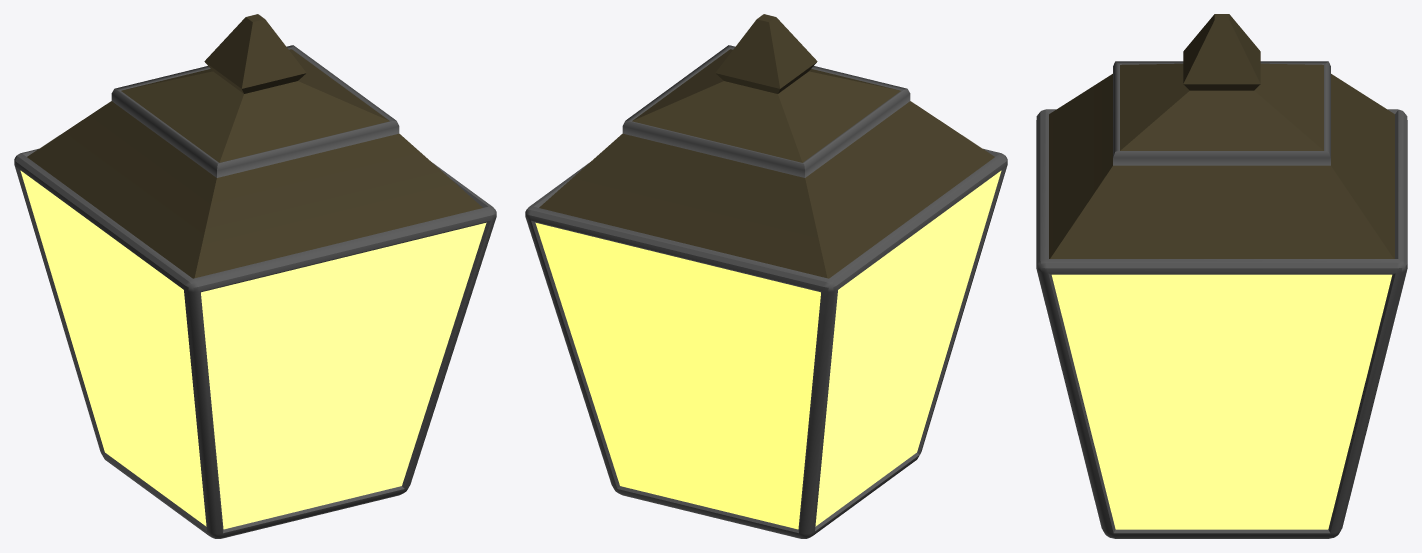
File: Lamp.fbx
3 renders of one model, left to right at view 1: azimuth 30°, elevation 25°; view 2: azimuth 150°, elevation 25°; view 3: azimuth 270°, elevation 25°, orthographic. The views are drawn at different scales.
Visible parts, largest first — view 1: pCube1; view 2: pCube1; view 3: pCube1.
Boxes of the visible parts, x1,y1,x2,y2 form: pCube1: [14, 14, 496, 538]; pCube1: [525, 14, 1007, 538]; pCube1: [1036, 14, 1407, 538].
Size of the model in its own units: 1.6 by 2.26 by 1.6.
